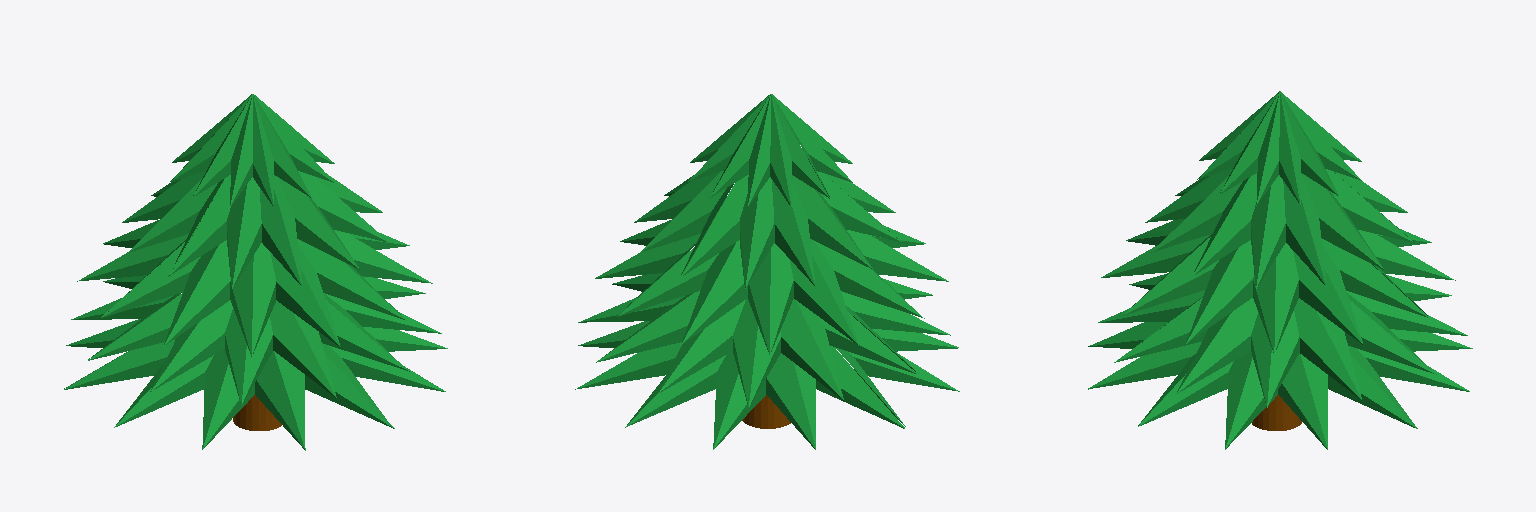
Rendered from pinetree.obj.
3 renders of one model, left to right at view 1: azimuth 30°, elevation 25°; view 2: azimuth 150°, elevation 25°; view 3: azimuth 270°, elevation 25°, orthographic.
Parts seen in each view (by area): view 1: Mesh3 Model, Mesh8 Model, Mesh5 Model, Mesh6 Model, Mesh11 Model, Mesh7 Model, Mesh4 Model, Mesh9 Model, Mesh10 Model, Mesh2 Model, Mesh1 Model; view 2: Mesh4 Model, Mesh2 Model, Mesh7 Model, Mesh9 Model, Mesh10 Model, Mesh3 Model, Mesh8 Model, Mesh6 Model, Mesh5 Model, Mesh11 Model, Mesh1 Model; view 3: Mesh3 Model, Mesh8 Model, Mesh4 Model, Mesh7 Model, Mesh10 Model, Mesh2 Model, Mesh5 Model, Mesh1 Model, Mesh6 Model, Mesh9 Model, Mesh11 Model.
Boxes of the visible parts, x1=… form: Mesh3 Model: x1=101, y1=230, x2=432, y2=356; Mesh8 Model: x1=168, y1=171, x2=389, y2=288; Mesh5 Model: x1=88, y1=293, x2=409, y2=405; Mesh6 Model: x1=64, y1=340, x2=394, y2=450; Mesh11 Model: x1=171, y1=94, x2=312, y2=206; Mesh7 Model: x1=64, y1=295, x2=447, y2=427; Mesh4 Model: x1=71, y1=275, x2=441, y2=369; Mesh9 Model: x1=122, y1=171, x2=223, y2=275; Mesh10 Model: x1=170, y1=94, x2=334, y2=190; Mesh2 Model: x1=77, y1=219, x2=188, y2=311; Mesh1 Model: x1=233, y1=395, x2=281, y2=430; Mesh4 Model: x1=578, y1=273, x2=916, y2=407; Mesh2 Model: x1=618, y1=239, x2=924, y2=354; Mesh7 Model: x1=575, y1=321, x2=904, y2=449; Mesh9 Model: x1=681, y1=171, x2=902, y2=289; Mesh10 Model: x1=688, y1=94, x2=829, y2=207; Mesh3 Model: x1=595, y1=197, x2=948, y2=316; Mesh8 Model: x1=634, y1=152, x2=897, y2=274; Mesh6 Model: x1=835, y1=315, x2=959, y2=426; Mesh5 Model: x1=841, y1=278, x2=950, y2=373; Mesh11 Model: x1=772, y1=94, x2=852, y2=196; Mesh1 Model: x1=742, y1=395, x2=790, y2=428; Mesh3 Model: x1=1101, y1=219, x2=1428, y2=354; Mesh8 Model: x1=1145, y1=169, x2=1413, y2=288; Mesh4 Model: x1=1114, y1=275, x2=1467, y2=407; Mesh7 Model: x1=1088, y1=329, x2=1472, y2=449; Mesh10 Model: x1=1197, y1=91, x2=1361, y2=205; Mesh2 Model: x1=1358, y1=229, x2=1455, y2=315; Mesh5 Model: x1=1098, y1=273, x2=1204, y2=362; Mesh1 Model: x1=1252, y1=395, x2=1301, y2=430; Mesh6 Model: x1=1088, y1=322, x2=1167, y2=389; Mesh9 Model: x1=1333, y1=171, x2=1413, y2=241; Mesh11 Model: x1=1199, y1=91, x2=1279, y2=177.
Bounding box in the file's own units: 115 × 108 × 115.